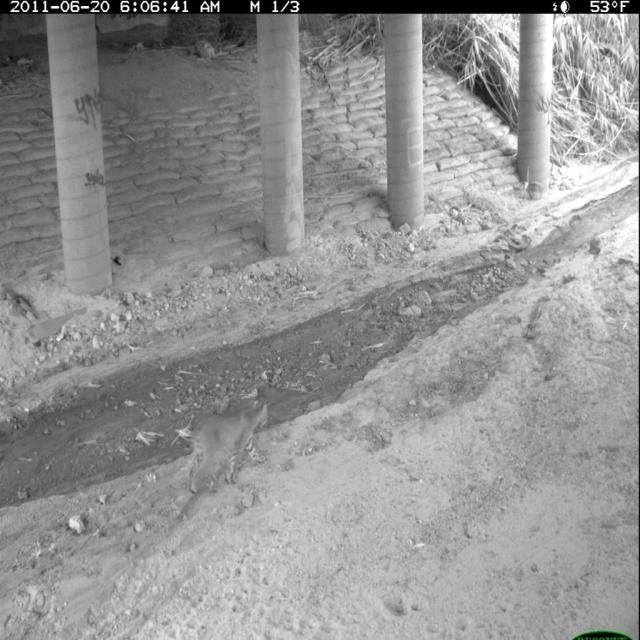bobcat: (185, 392, 274, 502)
